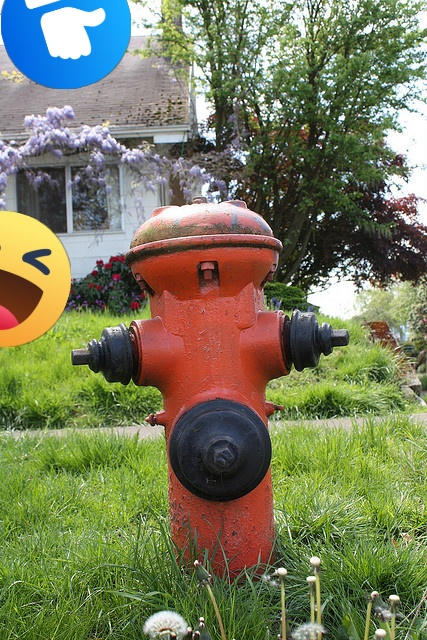haha: (0, 211, 71, 347)
like: (1, 0, 131, 89)
